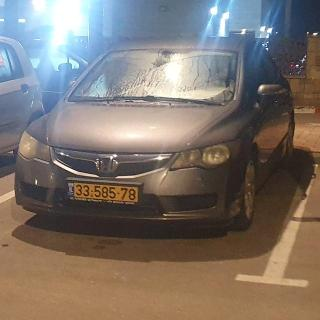LicensePlate: (73, 183, 139, 203)
